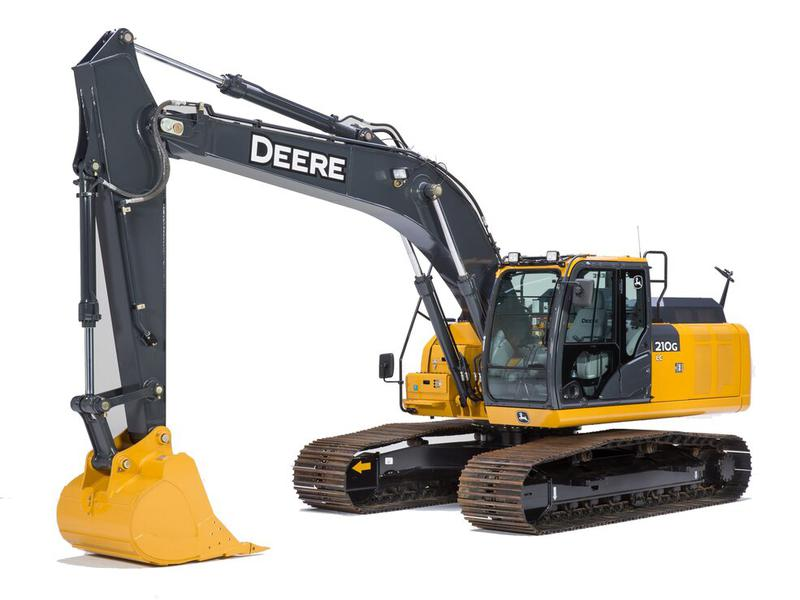shovel: (52, 19, 760, 574)
